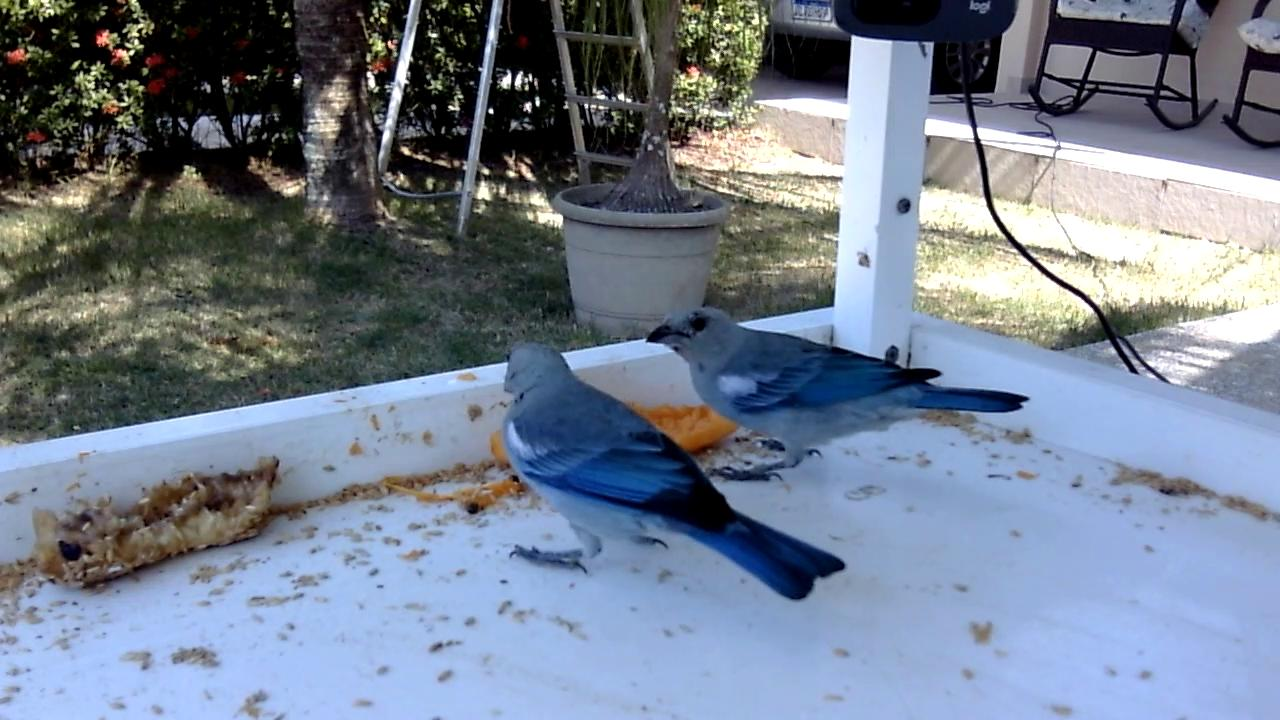sanhaco_da_amazonia: (493, 341, 847, 603), (644, 303, 1034, 488)
